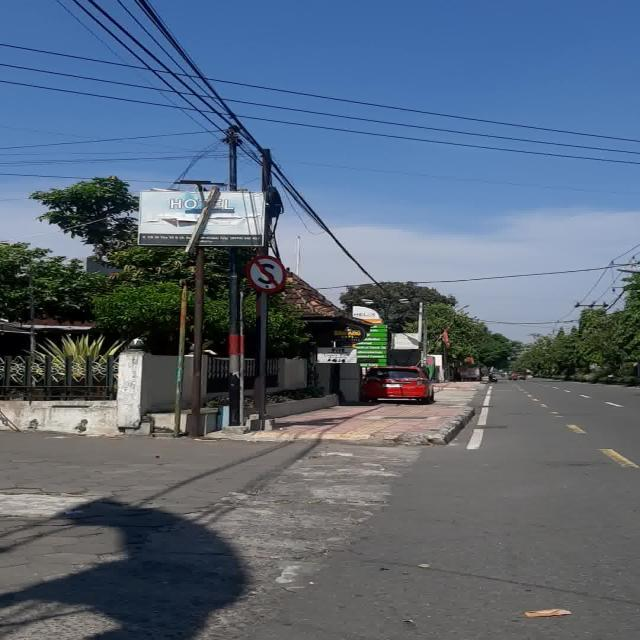Dilarang Berhenti: (246, 256, 286, 292)
